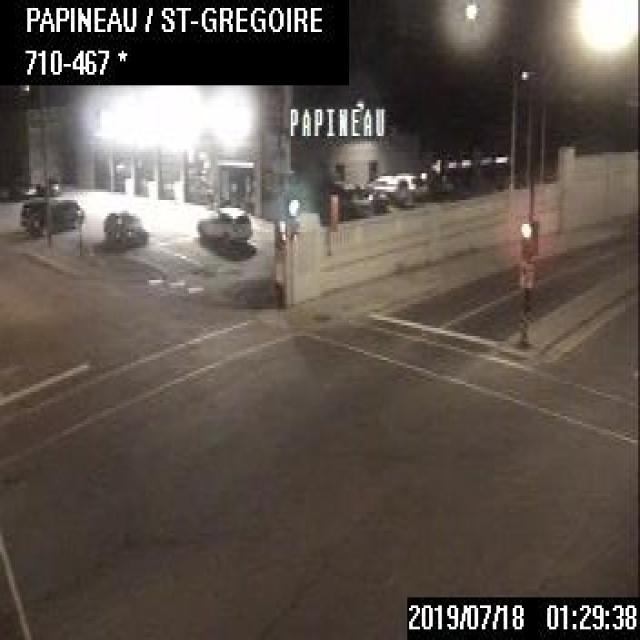vehicle: (18, 194, 83, 234), (196, 201, 250, 246), (103, 206, 148, 246)
